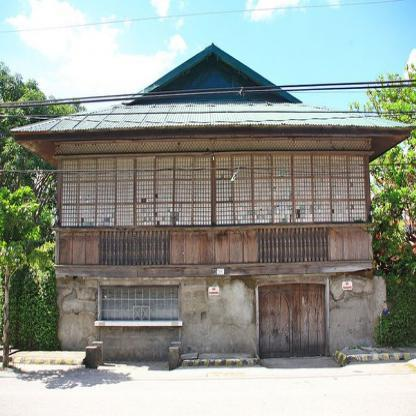Building Outline: (9, 42, 416, 358)
Door: (258, 284, 326, 358)
Floor Slab: (56, 267, 374, 277)
Ground Floor: (56, 277, 374, 358)
Roof: (10, 42, 415, 132)
Top Floor: (57, 139, 370, 267)
Window: (61, 156, 367, 228), (100, 286, 178, 321)
